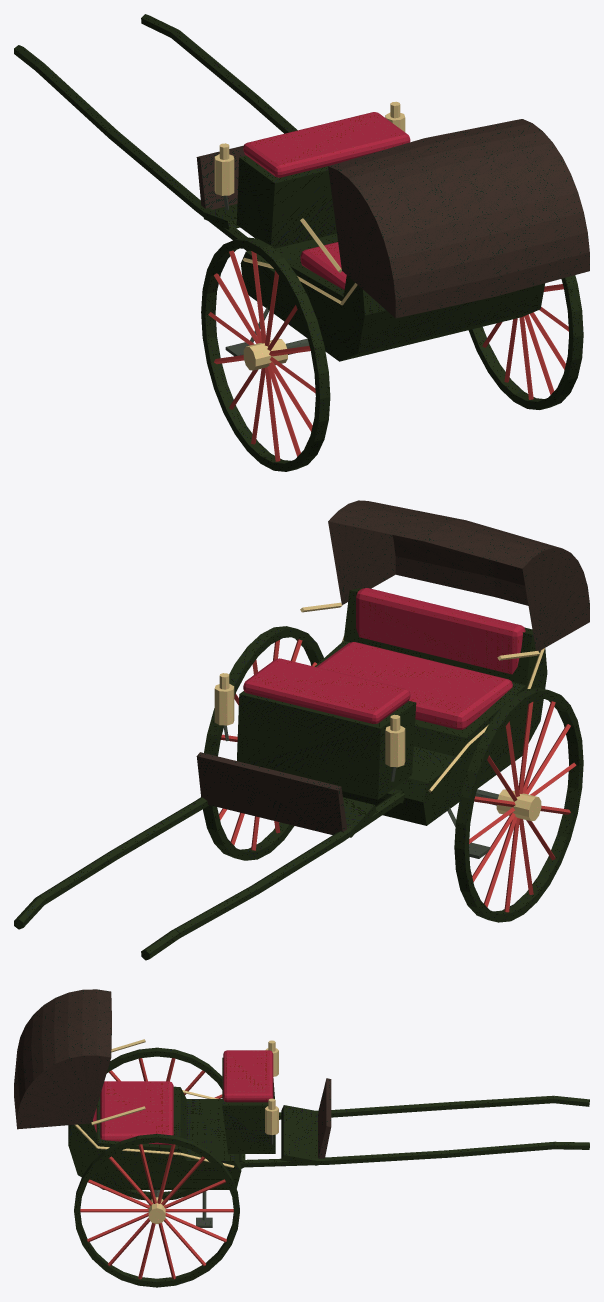
File: hantour-carriage.glb
The picture shows the model from 3 angles, top to bottom: view 1: azimuth 30°, elevation 25°; view 2: azimuth 150°, elevation 25°; view 3: azimuth 270°, elevation 25°; orthographic projection. The views are drawn at different scales.
Parts seen in each view (by area): view 1: carriage, wheel_L, wheel_R; view 2: carriage, wheel_L, wheel_R; view 3: carriage, wheel_R, wheel_L.
Part boxes in pixels (x1=…): carriage: x1=14, y1=14, x2=589, y2=361; wheel_L: x1=201, y1=237, x2=330, y2=471; wheel_R: x1=468, y1=275, x2=583, y2=409; carriage: x1=14, y1=500, x2=589, y2=960; wheel_L: x1=454, y1=688, x2=583, y2=922; wheel_R: x1=203, y1=626, x2=323, y2=860; carriage: x1=14, y1=989, x2=589, y2=1227; wheel_R: x1=74, y1=1133, x2=239, y2=1287; wheel_L: x1=106, y1=1047, x2=222, y2=1200.
Size of the model in its own units: 1.94 by 2.08 by 4.86.
1 material, 1 textured.
